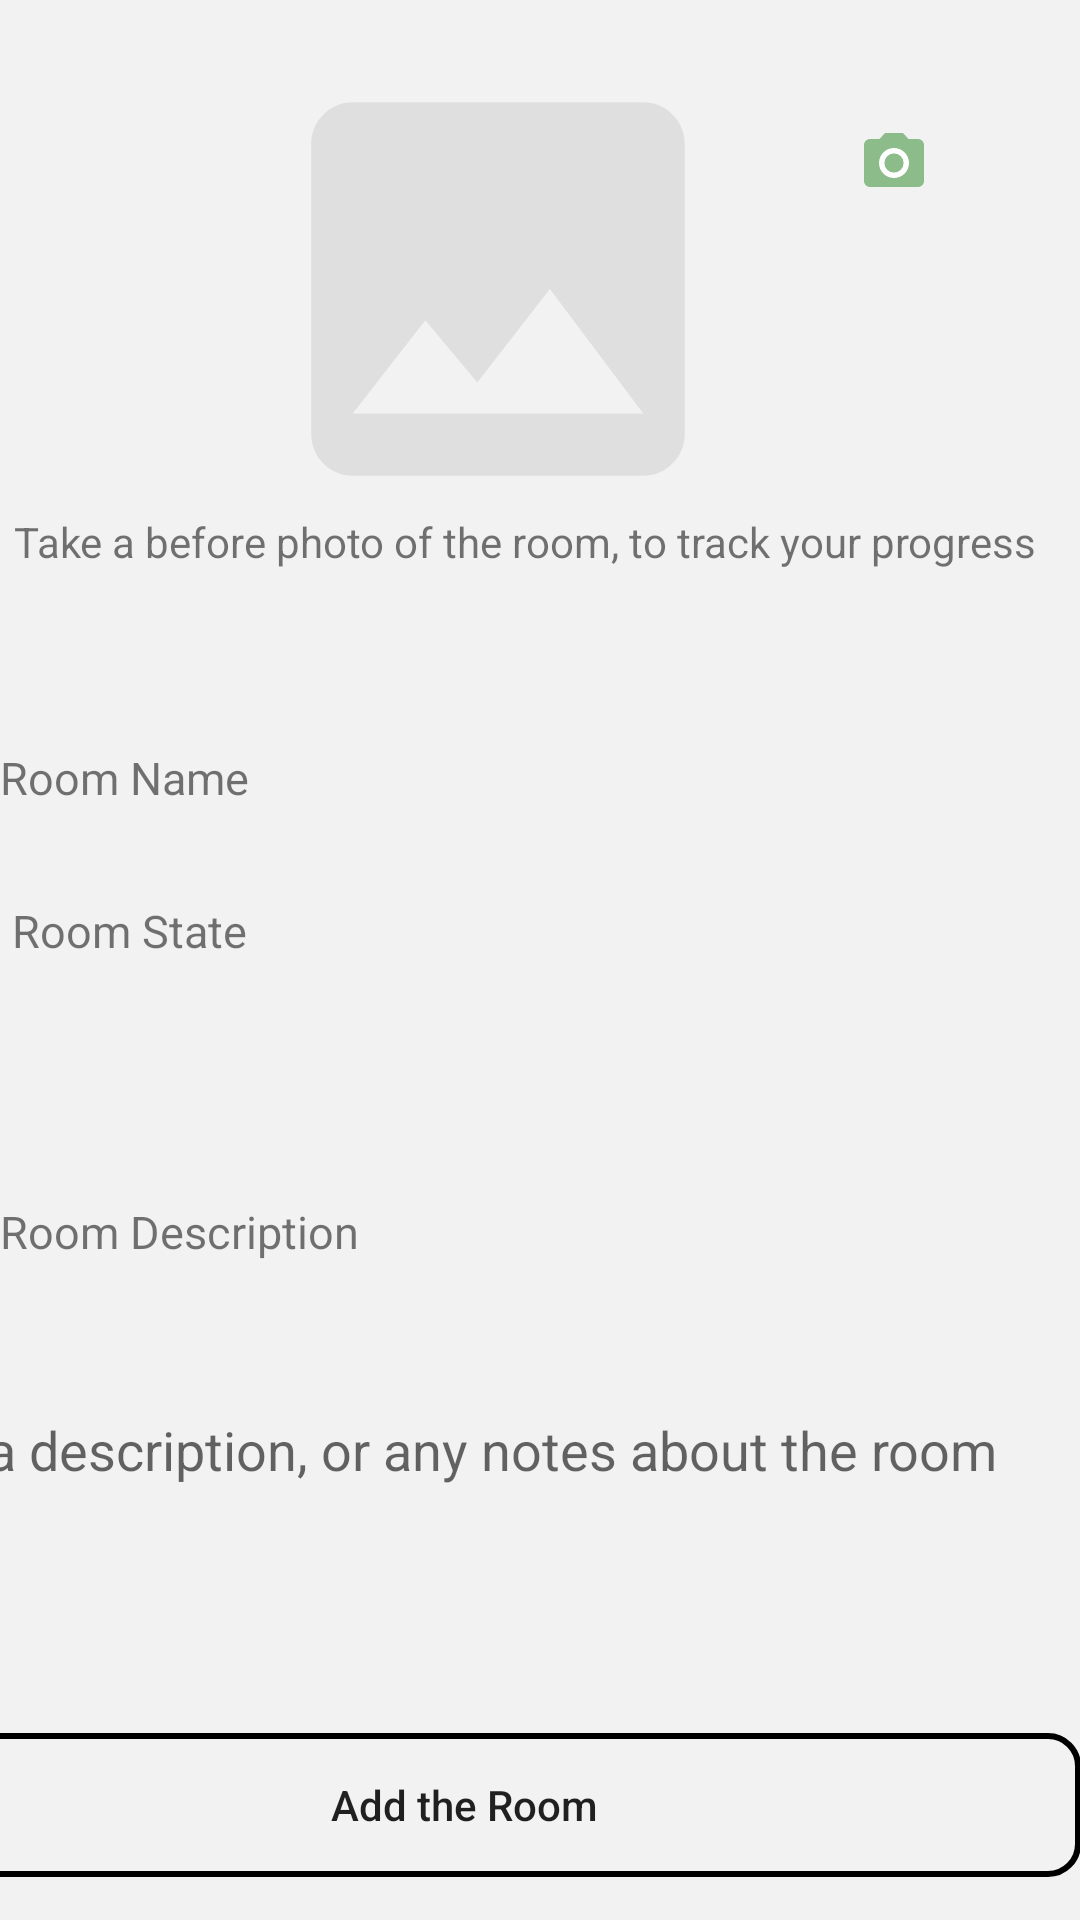

Screen size 1080x1920. Icon name, then its center in pixels as point (x, y):
camers: point (894, 160)
